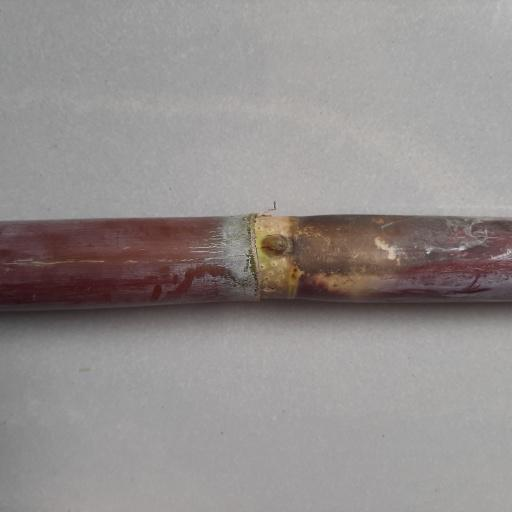Bud: (259, 232, 288, 258)
